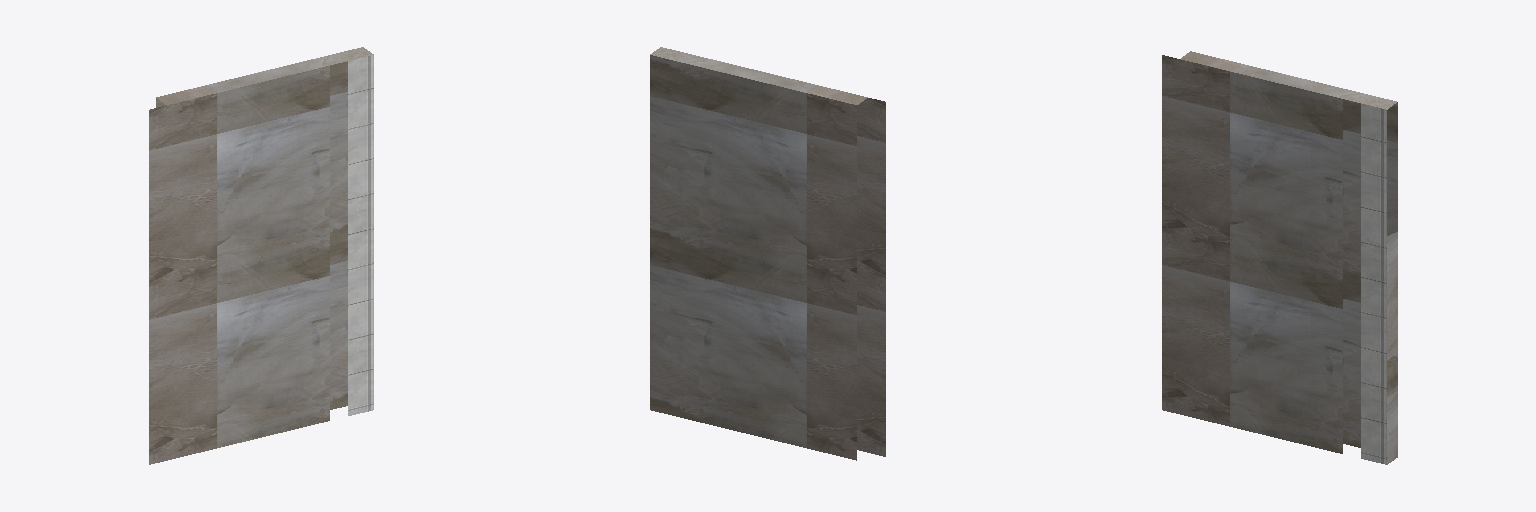
3 renders of one model, left to right at view 1: azimuth 30°, elevation 25°; view 2: azimuth 150°, elevation 25°; view 3: azimuth 330°, elevation 25°, orthographic.
Parts seen in each view (by area): view 1: Cube.005; view 2: Cube.005; view 3: Cube.005.
Boxes of the visible parts, box(x1,y1,x2,y2) form: Cube.005: box(149, 47, 373, 464); Cube.005: box(650, 47, 885, 460); Cube.005: box(1162, 51, 1397, 464).
Bounding box in the file's own units: 3.4 × 5.13 × 0.2841.
Materials: 2 (2 with a texture image).